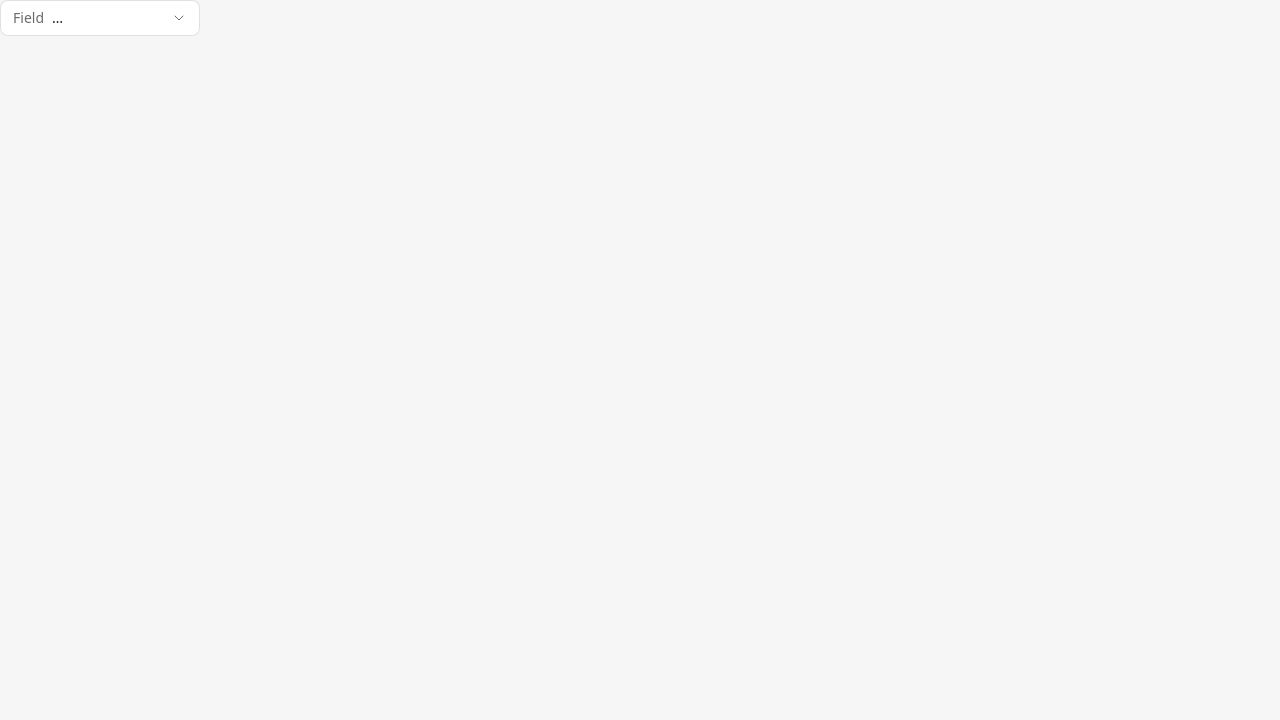
Test: FieldPicker › says the list is loading, or why it failed
Click the button "Field …" at (100, 18), box [0,0,200,36]
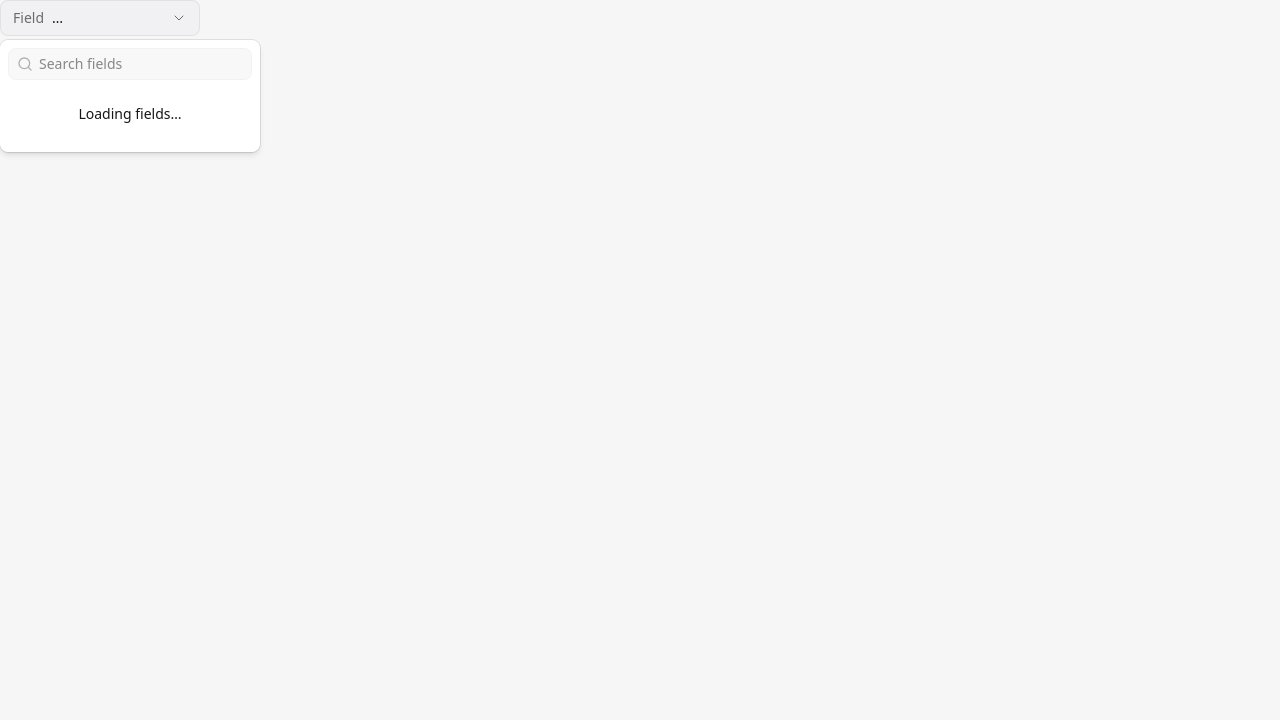
Now the text "Loading fields…" is shown, box [78,104,182,123]
